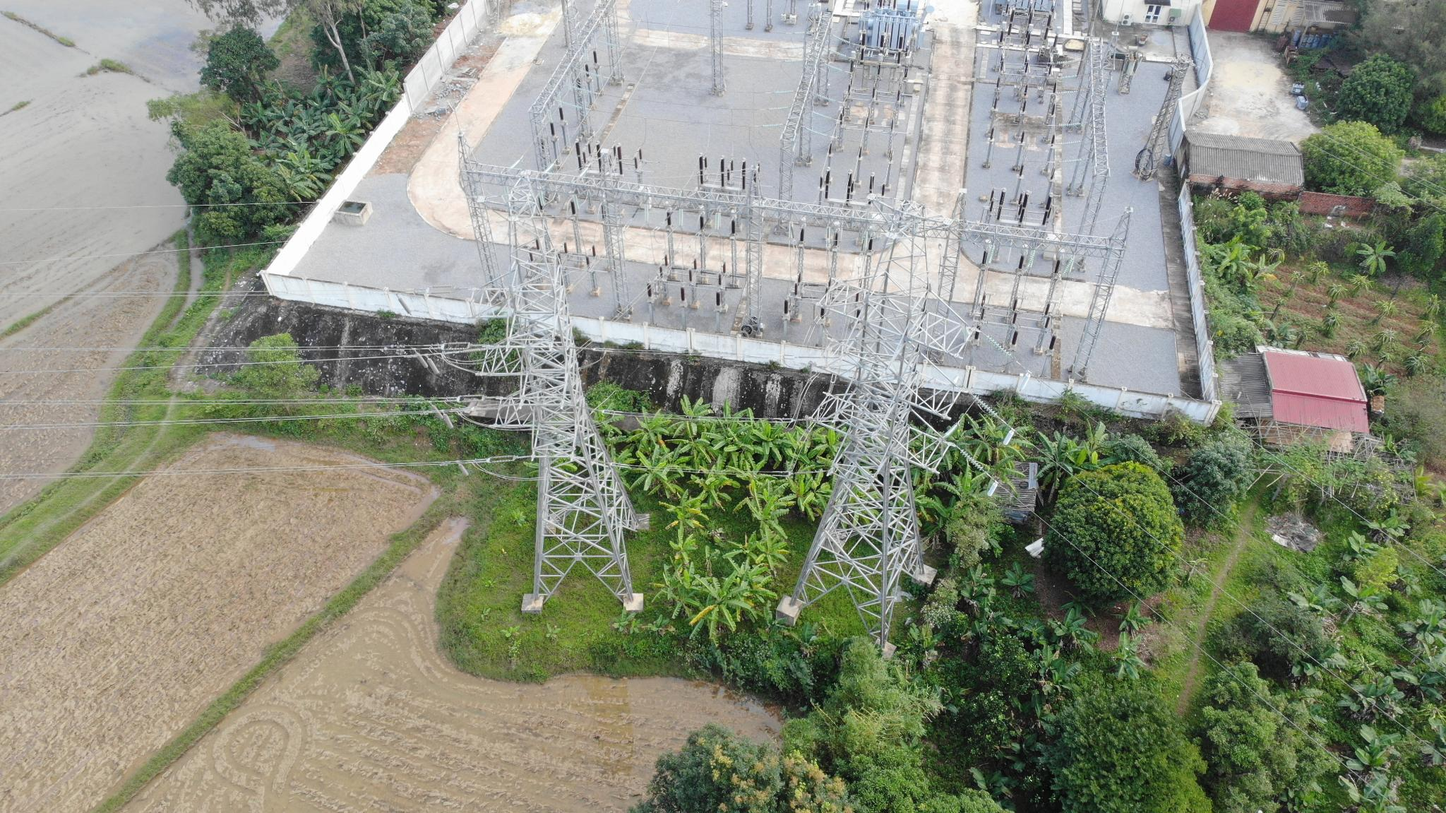tower: (781, 195, 974, 672), (468, 168, 649, 632)
